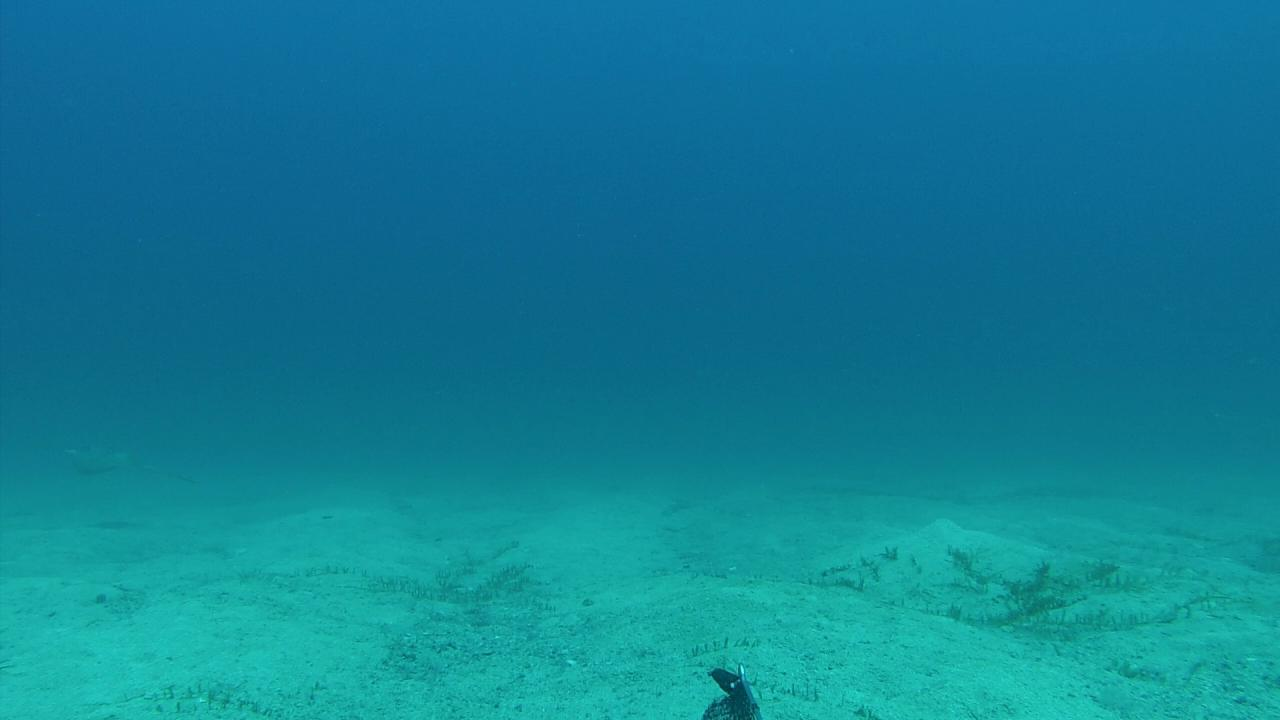dasyatis: (61, 442, 200, 487)
